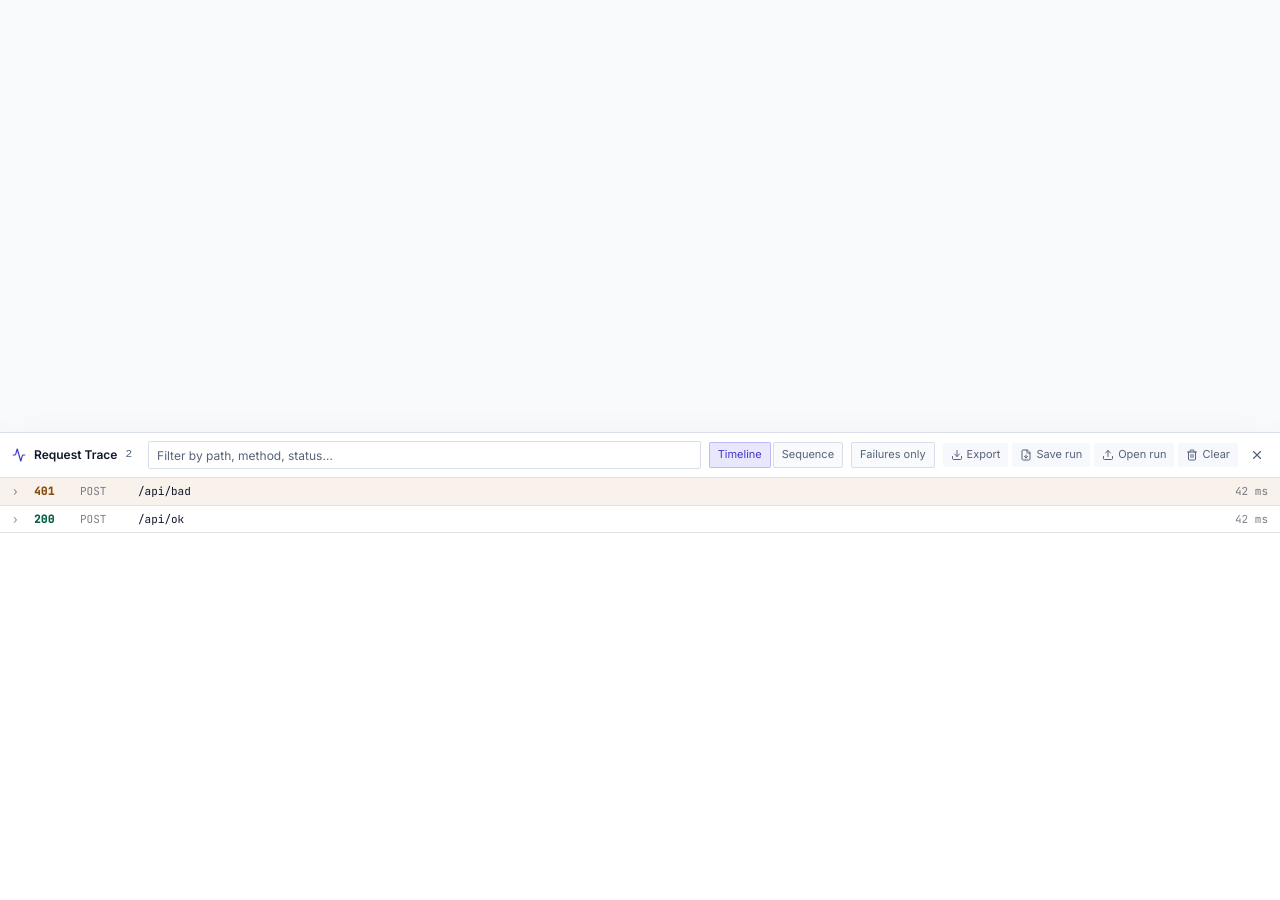
Test case: TracePanel › filters to failures only
Expected: the text "/api/ok" is shown, x1=138 y1=512 x2=184 y2=526
Click the button "Failures only" at (893, 455), box x1=851 y1=442 x2=935 y2=468
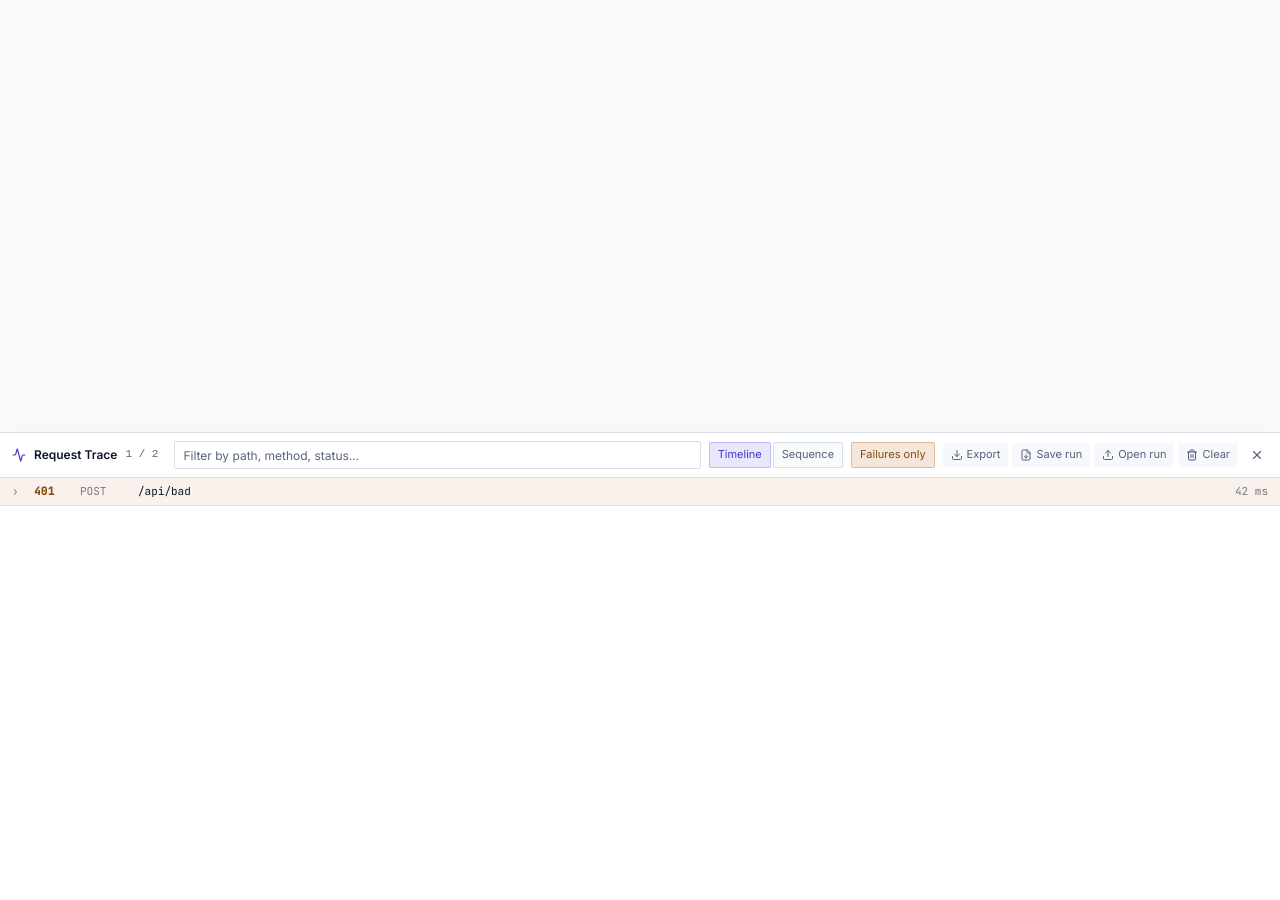
Expected: the text "/api/bad" is shown, x1=138 y1=484 x2=191 y2=498
Expected: the button "/api/ok" is gone
